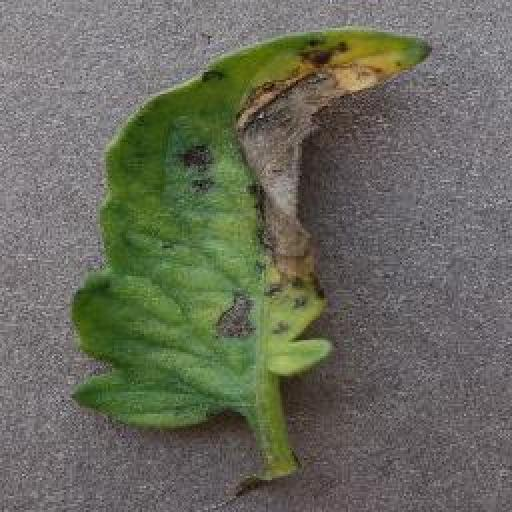Early Blight: (67, 34, 435, 438)
